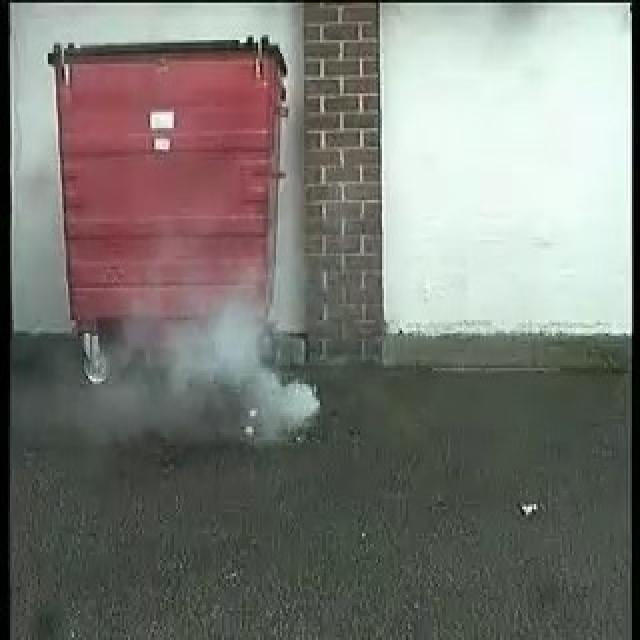Smoke: (118, 309, 325, 434)
